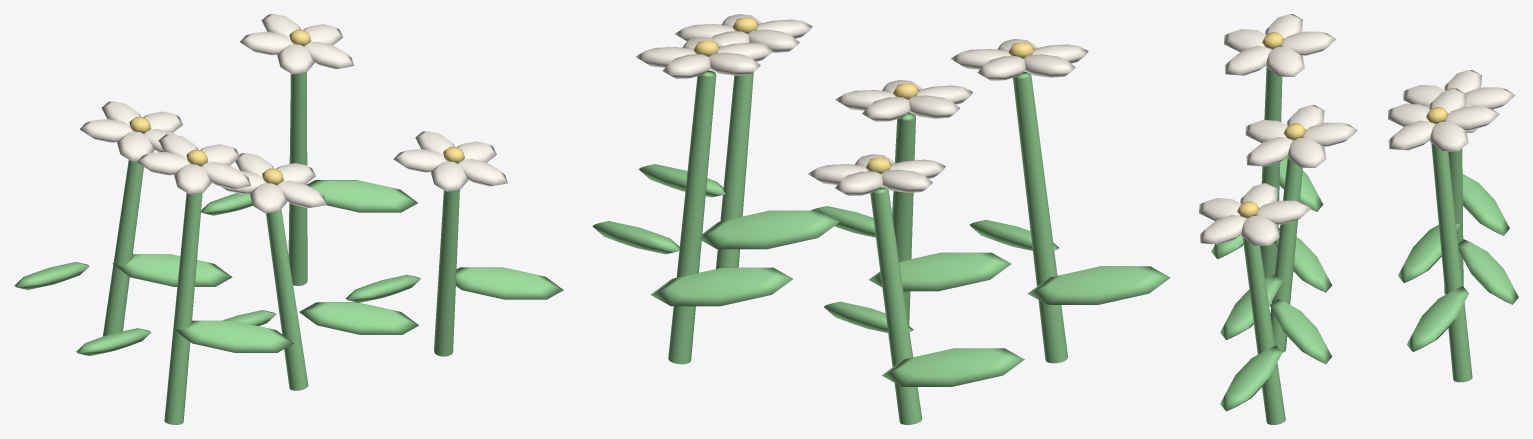
The model's file is flower_2_summer.glb.
The picture shows the model from 3 angles, left to right: view 1: azimuth 30°, elevation 25°; view 2: azimuth 150°, elevation 25°; view 3: azimuth 270°, elevation 25°; orthographic projection. The views are drawn at different scales.
Size of the model in its own units: 0.6121 by 0.3499 by 0.3599.
